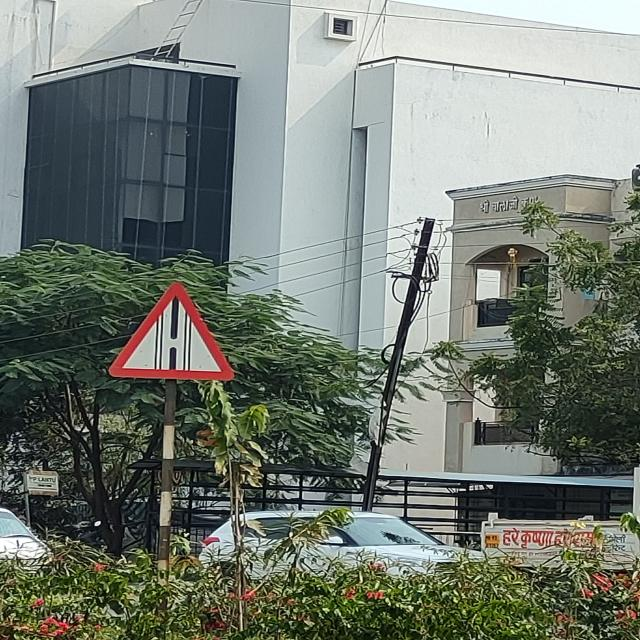ferry: (108, 280, 234, 384)
